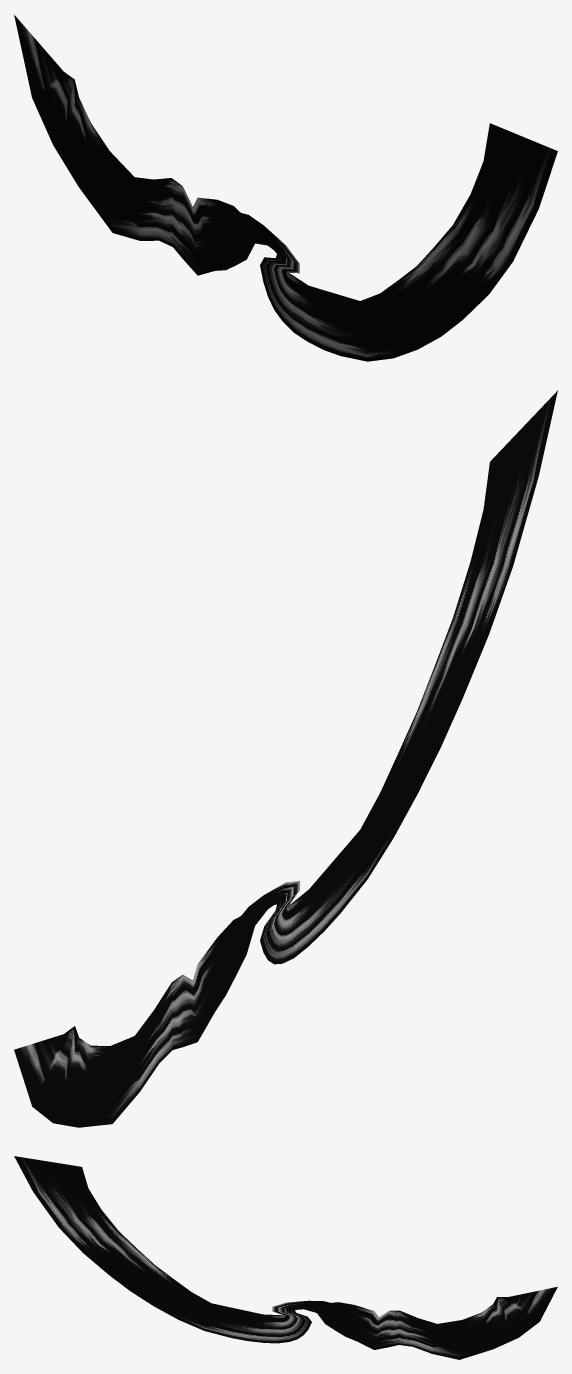
File: zhuan_E_model7.FBX
3 renders of one model, top to bottom at view 1: azimuth 30°, elevation 25°; view 2: azimuth 150°, elevation 25°; view 3: azimuth 270°, elevation 25°, orthographic. The views are drawn at different scales.
Parts seen in each view (by area): view 1: Blue_eyeShortSword; view 2: Blue_eyeShortSword; view 3: Blue_eyeShortSword.
Boxes of the visible parts, x1,y1,x2,y2 form: Blue_eyeShortSword: (14,14,557,361); Blue_eyeShortSword: (14,390,557,1127); Blue_eyeShortSword: (14,1156,557,1359).
Size of the model in its own units: 0.0255 by 74.68 by 181.
